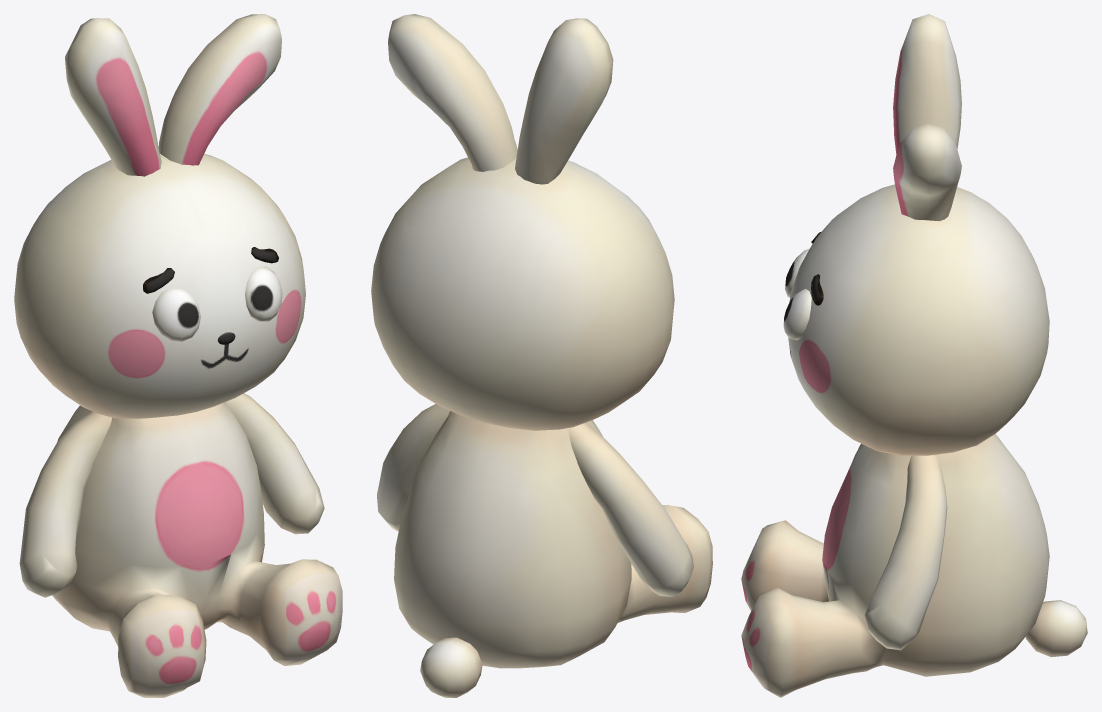
The model's file is TuZi.FBX.
3 views of the same model, side by side, from view 1: azimuth 30°, elevation 25°; view 2: azimuth 150°, elevation 25°; view 3: azimuth 270°, elevation 25° (orthographic). The views are drawn at different scales.
Visible parts, largest first — view 1: TuZi; view 2: TuZi; view 3: TuZi.
Boxes of the visible parts, x1=… form: TuZi: x1=14, y1=14, x2=342, y2=697; TuZi: x1=371, y1=14, x2=712, y2=697; TuZi: x1=741, y1=14, x2=1087, y2=697.
Bounding box in the file's own units: 67.3 × 136 × 69.02.
1 material, 1 textured.
